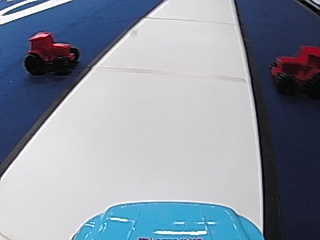tractor: (22, 28, 80, 76), (269, 43, 318, 97)
